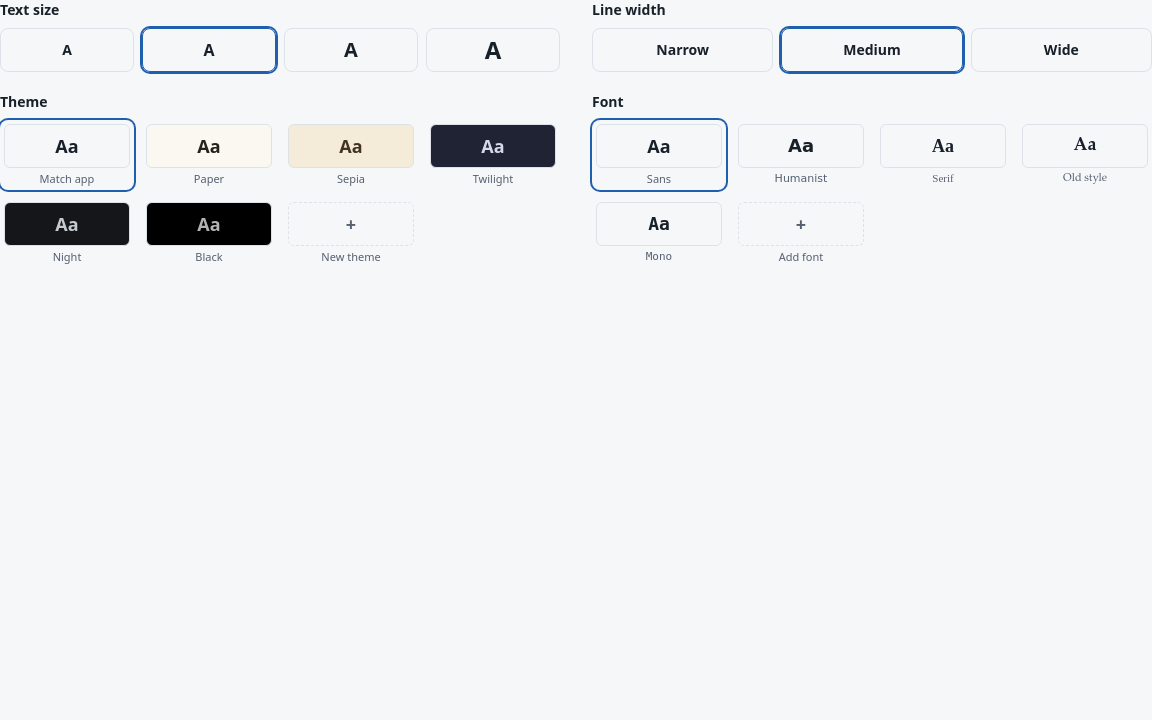
ReaderSettings › themes › New theme opens a dialog of its own, named New theme
Click the button "+ New theme" at (351, 233), box 284,198 -> 418,268
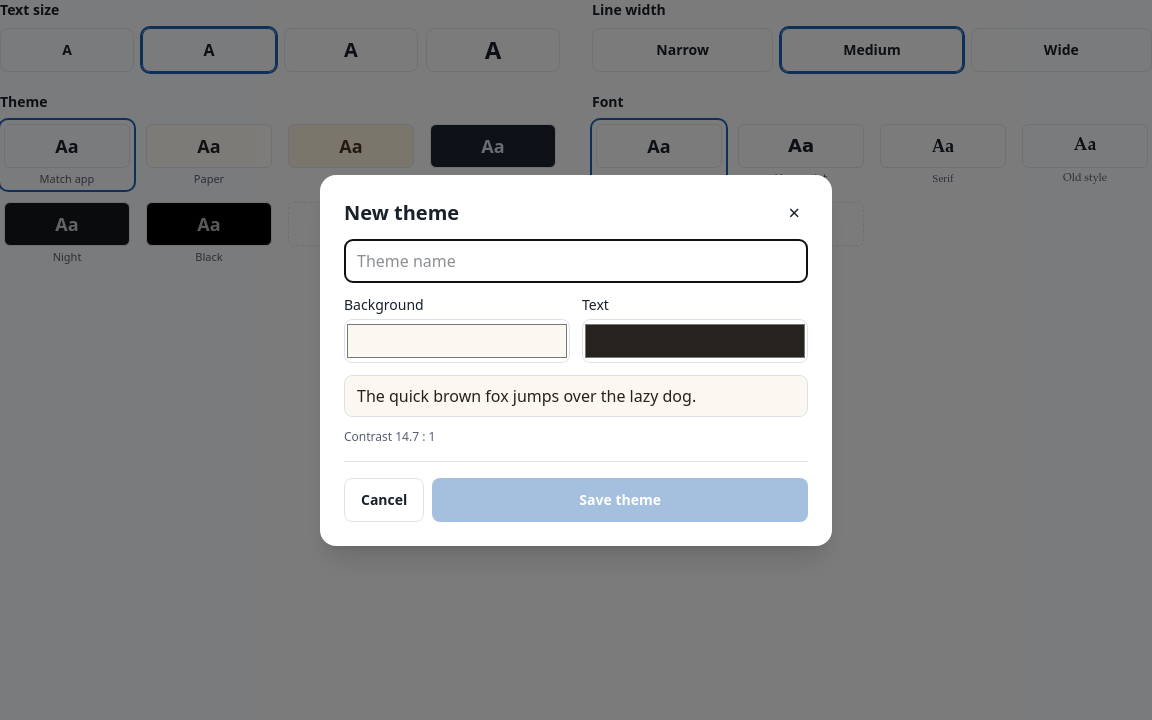
expect the field labelled "Theme name" is shown: met, box 344,238 -> 808,282
expect the colour field named "Background colour" is shown: met, box 344,318 -> 570,362
expect the colour field named "Text colour" is shown: met, box 582,318 -> 808,362
